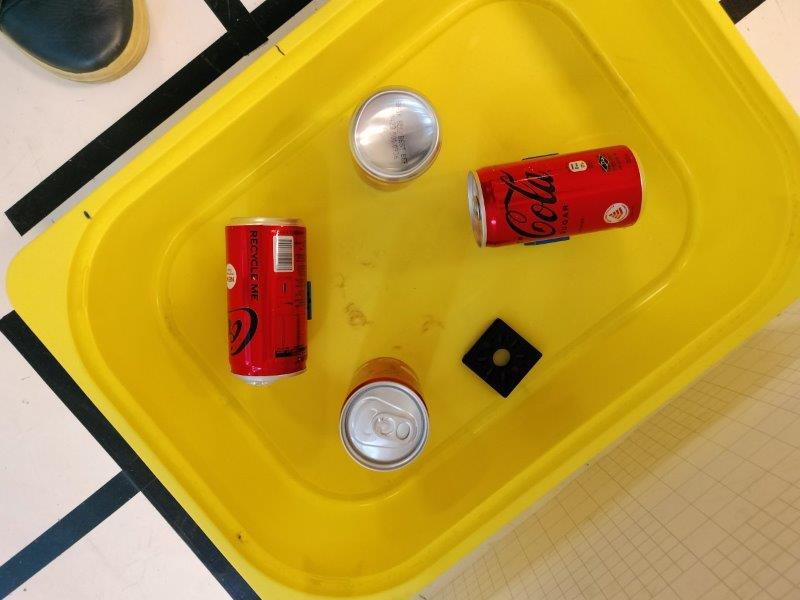Coke: (465, 145, 645, 247), (225, 218, 306, 384), (336, 357, 429, 473), (346, 85, 442, 191)
